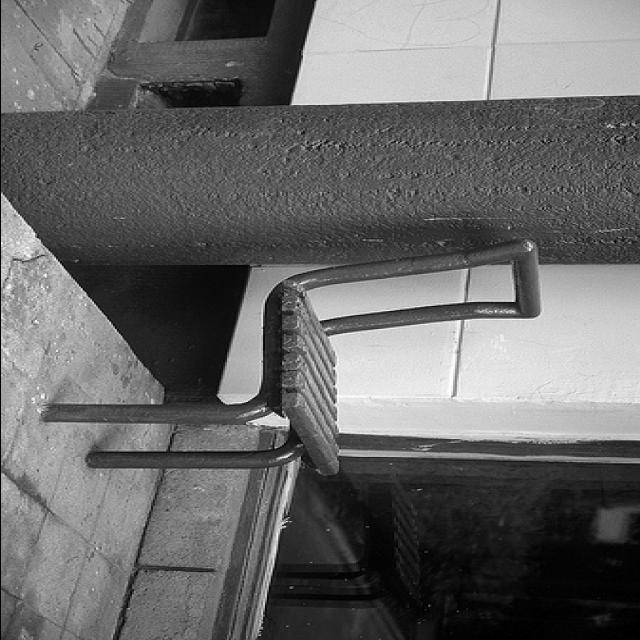chair: (38, 236, 544, 474)
